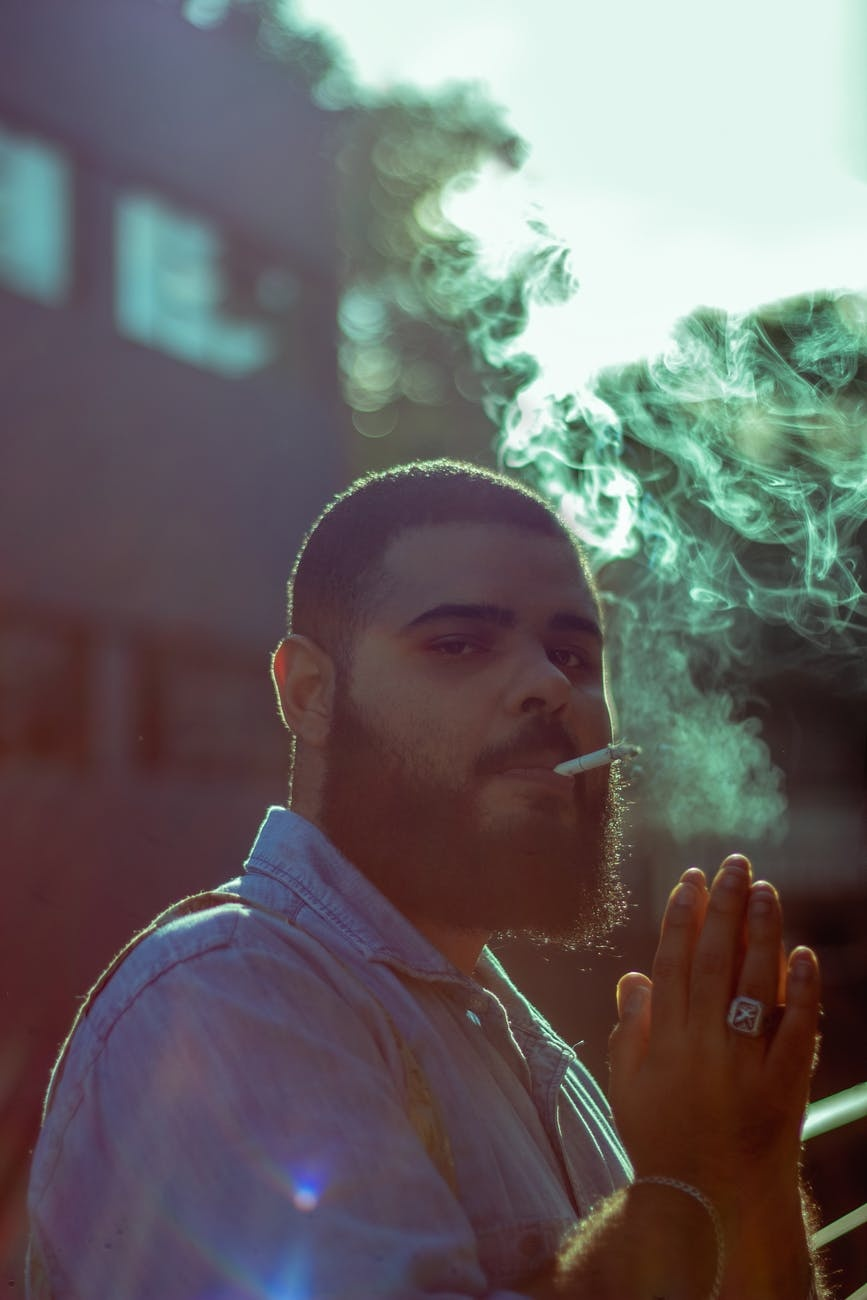sigaretta: (540, 740, 628, 778)
